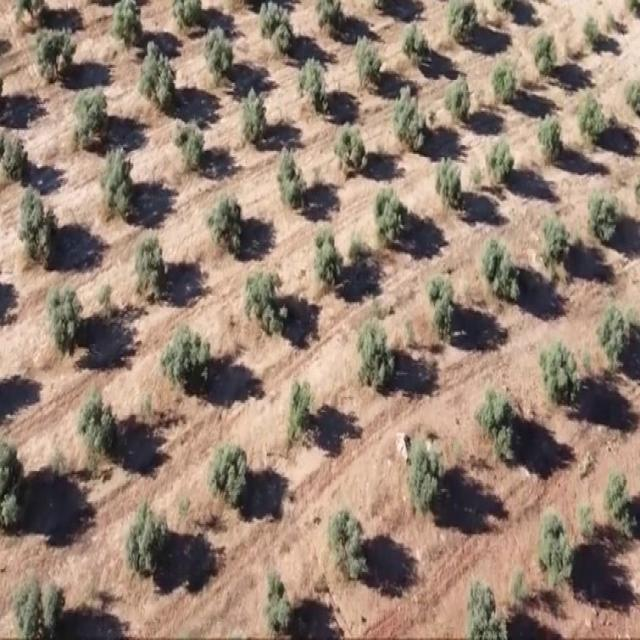trees: (155, 319, 219, 406), (74, 381, 124, 477), (534, 321, 586, 413), (119, 496, 172, 584), (402, 422, 448, 522), (349, 316, 402, 402), (200, 431, 254, 513), (478, 231, 528, 317), (7, 566, 66, 638), (238, 259, 290, 340), (473, 381, 524, 463), (12, 186, 60, 273), (42, 282, 92, 365), (592, 296, 638, 386), (323, 500, 370, 588), (532, 502, 577, 592), (98, 140, 144, 225), (602, 442, 640, 544), (461, 576, 520, 640), (136, 40, 184, 117), (129, 222, 174, 303), (391, 83, 436, 162), (67, 79, 114, 153), (201, 188, 250, 258), (365, 181, 411, 255), (310, 219, 352, 298), (581, 181, 625, 256), (272, 142, 315, 217), (33, 23, 81, 90), (280, 372, 320, 452), (236, 84, 276, 158), (330, 115, 373, 183), (292, 51, 334, 118), (202, 20, 240, 90), (258, 0, 300, 62), (576, 88, 613, 158), (261, 564, 296, 638), (173, 117, 214, 180), (433, 152, 469, 222), (438, 69, 476, 135), (526, 24, 562, 92), (351, 34, 388, 100), (426, 272, 458, 348), (0, 435, 24, 533), (0, 121, 34, 190), (400, 17, 440, 75), (484, 130, 520, 193), (488, 52, 524, 113), (535, 112, 570, 174), (109, 0, 148, 55), (541, 210, 573, 277), (440, 0, 481, 47), (311, 0, 352, 44), (168, 0, 207, 38), (580, 10, 610, 58)
